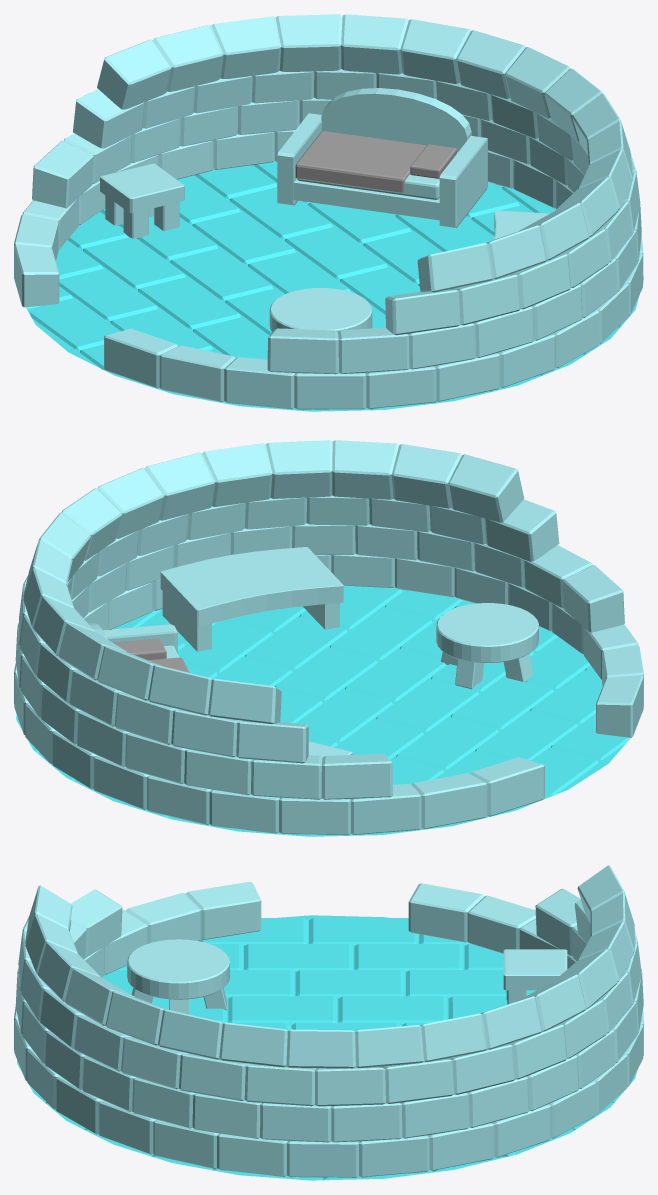
Rendered from Igloo_Interior.fbx.
3 renders of one model, top to bottom at view 1: azimuth 30°, elevation 25°; view 2: azimuth 150°, elevation 25°; view 3: azimuth 270°, elevation 25°, orthographic.
Visible parts, largest first — view 1: Wall, Floor, Bed, SquareTable, CircleTable, CurvedTable; view 2: Wall, Floor, CurvedTable, CircleTable, Bed; view 3: Wall, Floor, CircleTable, SquareTable.
Boxes of the visible parts, <box> form: Wall: <box>14,14,643,409</box>; Floor: <box>26,161,643,411</box>; Bed: <box>277,88,487,227</box>; SquareTable: <box>100,163,184,238</box>; CircleTable: <box>269,288,372,332</box>; CurvedTable: <box>494,210,549,239</box>; Wall: <box>14,440,643,835</box>; Floor: <box>16,585,630,836</box>; CurvedTable: <box>160,547,343,651</box>; CircleTable: <box>436,603,538,689</box>; Bed: <box>88,623,189,672</box>; Wall: <box>14,865,643,1177</box>; Floor: <box>17,915,637,1180</box>; CircleTable: <box>127,939,229,1014</box>; SquareTable: <box>503,949,567,1004</box>.
Size of the model in its own units: 1048 by 261 by 1052.
